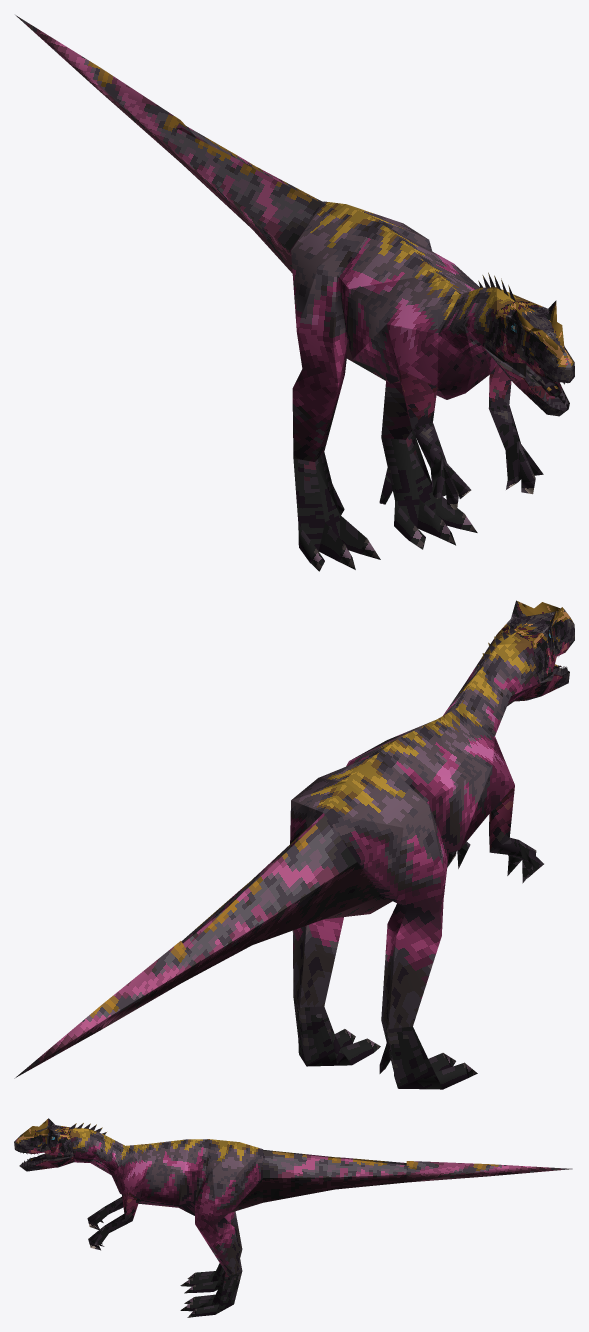
The model's file is super_alpha_allosaurus.obj.
3 views of the same model, one above another, from view 1: azimuth 30°, elevation 25°; view 2: azimuth 150°, elevation 25°; view 3: azimuth 270°, elevation 25° (orthographic). The views are drawn at different scales.
Parts seen in each view (by area): view 1: H_Arosau_boss_H_Arosau_boss.001; view 2: H_Arosau_boss_H_Arosau_boss.001; view 3: H_Arosau_boss_H_Arosau_boss.001.
Part boxes in pixels (x1,y1,x2,y2): H_Arosau_boss_H_Arosau_boss.001: [15, 15, 574, 571]; H_Arosau_boss_H_Arosau_boss.001: [14, 600, 574, 1089]; H_Arosau_boss_H_Arosau_boss.001: [14, 1118, 572, 1317].
Size of the model in its own units: 5.14 by 10.82 by 31.22.
